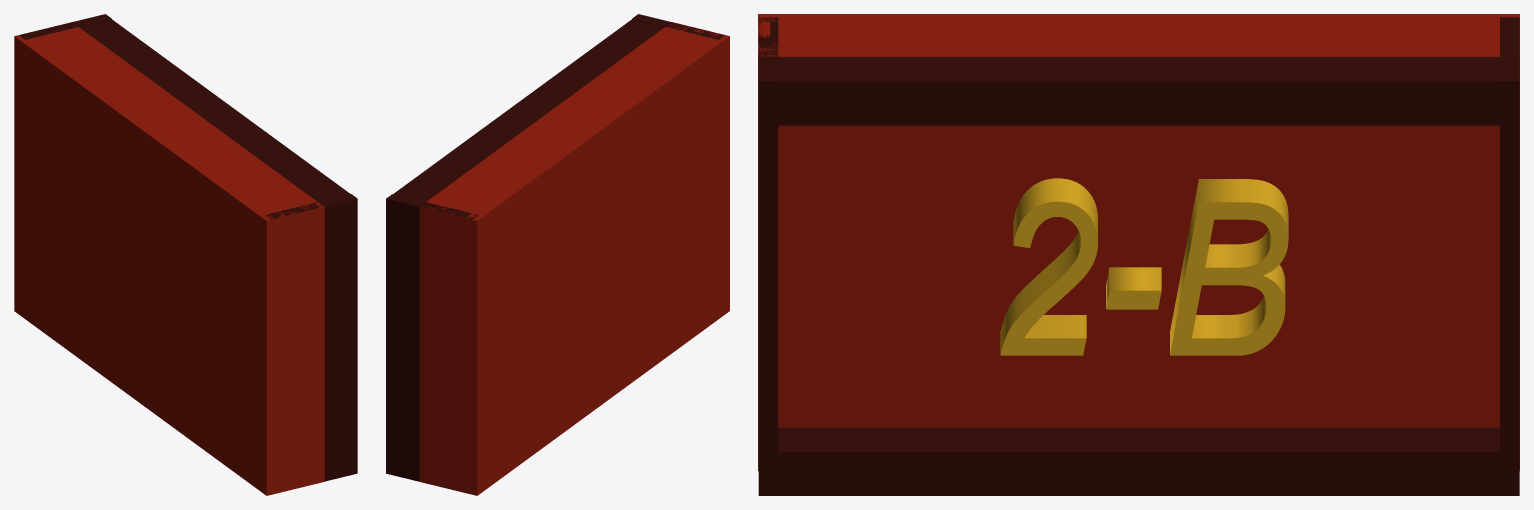
3 views of the same model, side by side, from view 1: azimuth 30°, elevation 25°; view 2: azimuth 150°, elevation 25°; view 3: azimuth 270°, elevation 25° (orthographic). The views are drawn at different scales.
Visible parts, largest first — view 1: Text; view 2: Text; view 3: Text.
Part boxes in pixels (x1=…): Text: x1=14, y1=14, x2=357, y2=495; Text: x1=386, y1=14, x2=729, y2=495; Text: x1=758, y1=14, x2=1519, y2=495.
Size of the model in its own units: 69.49 by 200 by 333.
